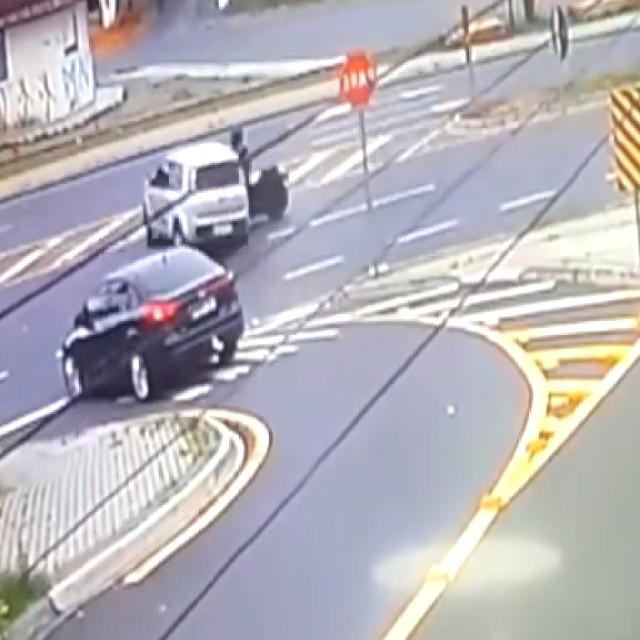accident: (142, 129, 286, 249)
